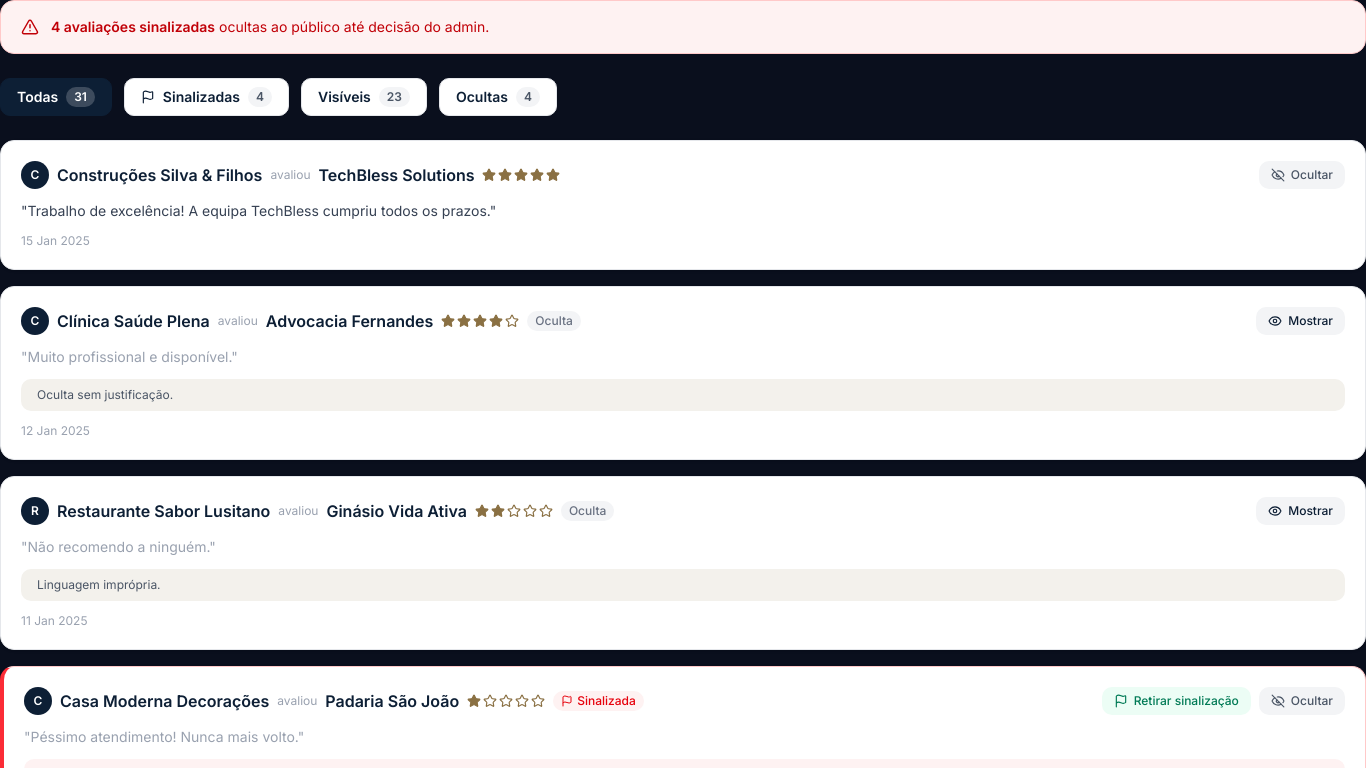
Test case: Moderação de Conteúdos › Cancelar fecha o diálogo de ocultar sem pedido e devolve o foco ao botão
Click the button named "Ocultar avaliação de Construções Silva & Filhos a TechBless Solutions".
click(1302, 175)  # box x1=1259 y1=161 x2=1345 y2=189
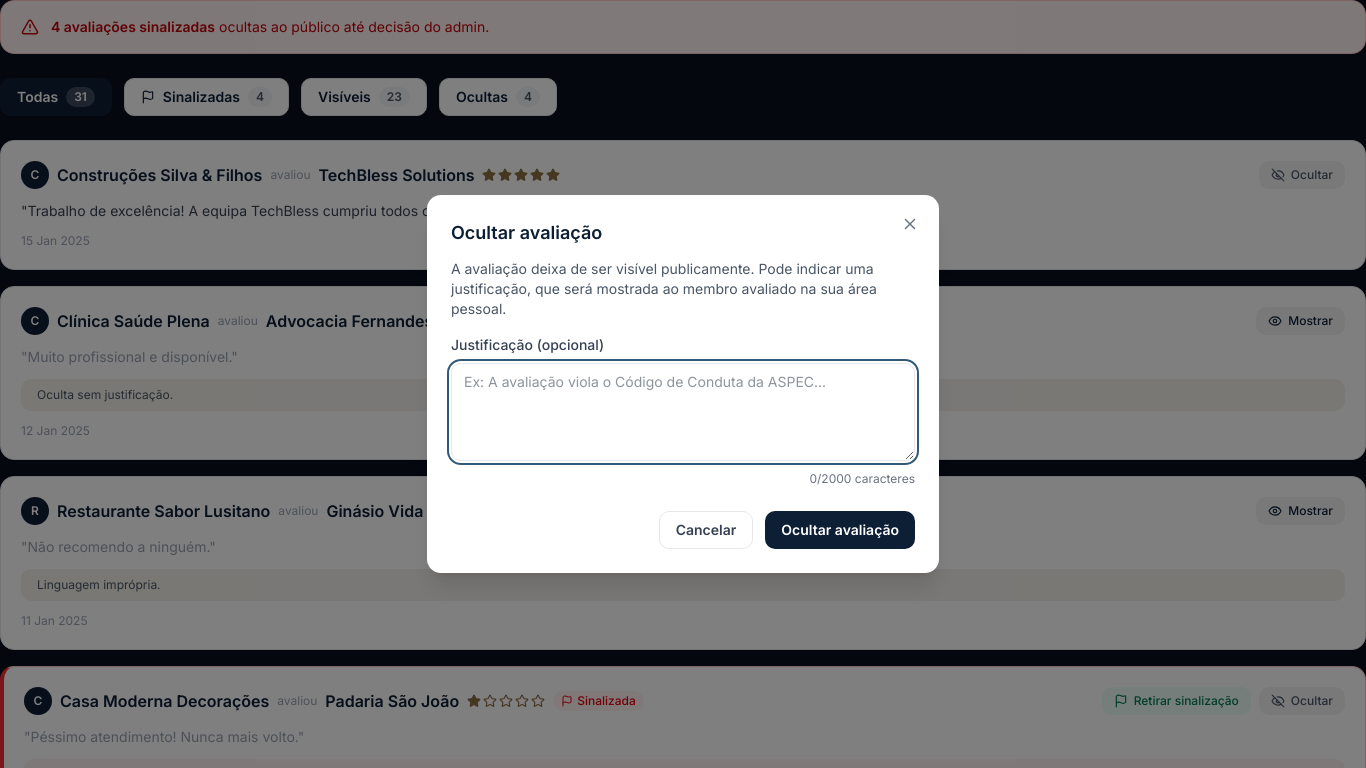
Click the button "Cancelar".
click(706, 530)  # box x1=659 y1=511 x2=753 y2=549
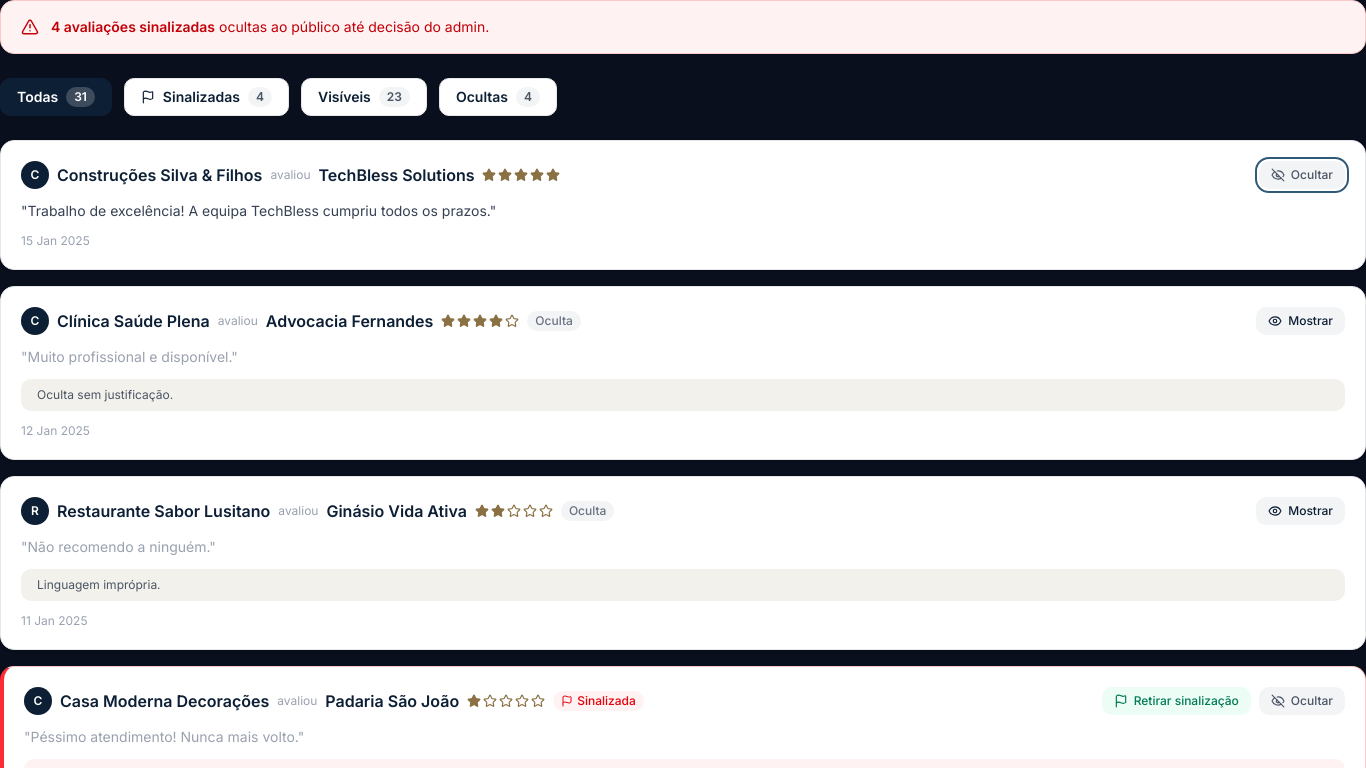
Expected: the dialog is gone
